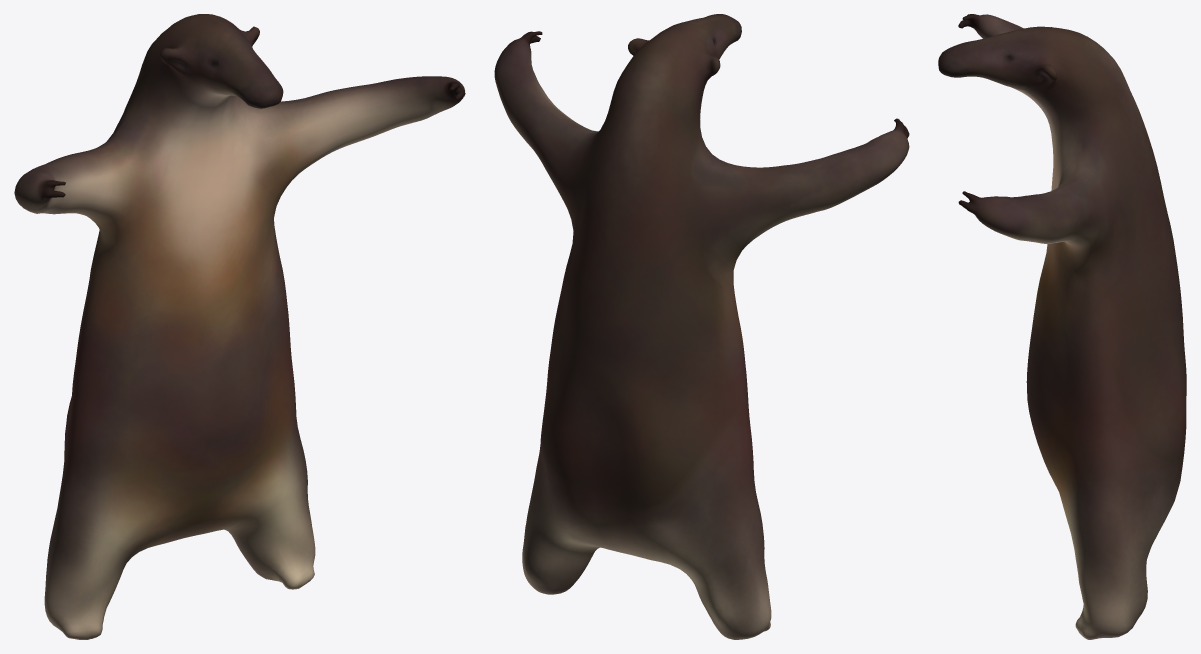
The model's file is anteater.glb.
3 renders of one model, left to right at view 1: azimuth 30°, elevation 25°; view 2: azimuth 150°, elevation 25°; view 3: azimuth 270°, elevation 25°, orthographic. The views are drawn at different scales.
Visible parts, largest first — view 1: Object_2; view 2: Object_2; view 3: Object_2.
Boxes of the visible parts, box(x1,y1,x2,y2) form: Object_2: box(14, 14, 465, 639); Object_2: box(494, 14, 909, 639); Object_2: box(938, 14, 1186, 639).
Size of the model in its own units: 107 by 142 by 57.1.
Materials: 1 (1 with a texture image).
